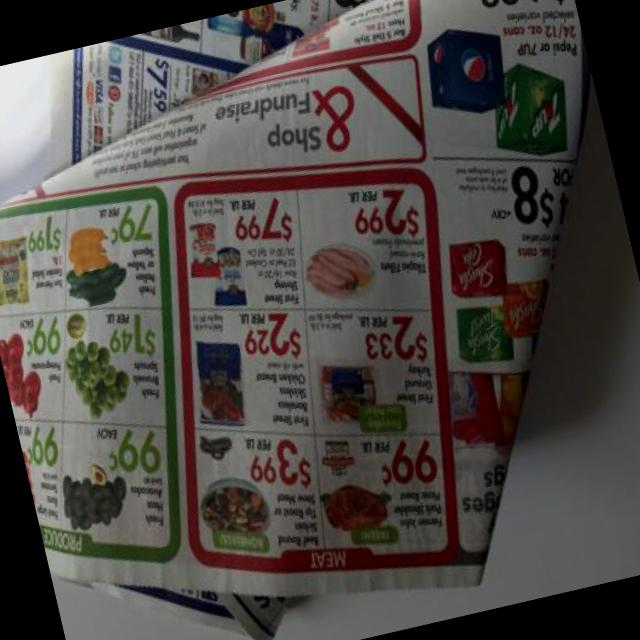bottle: (145, 24, 200, 42)
